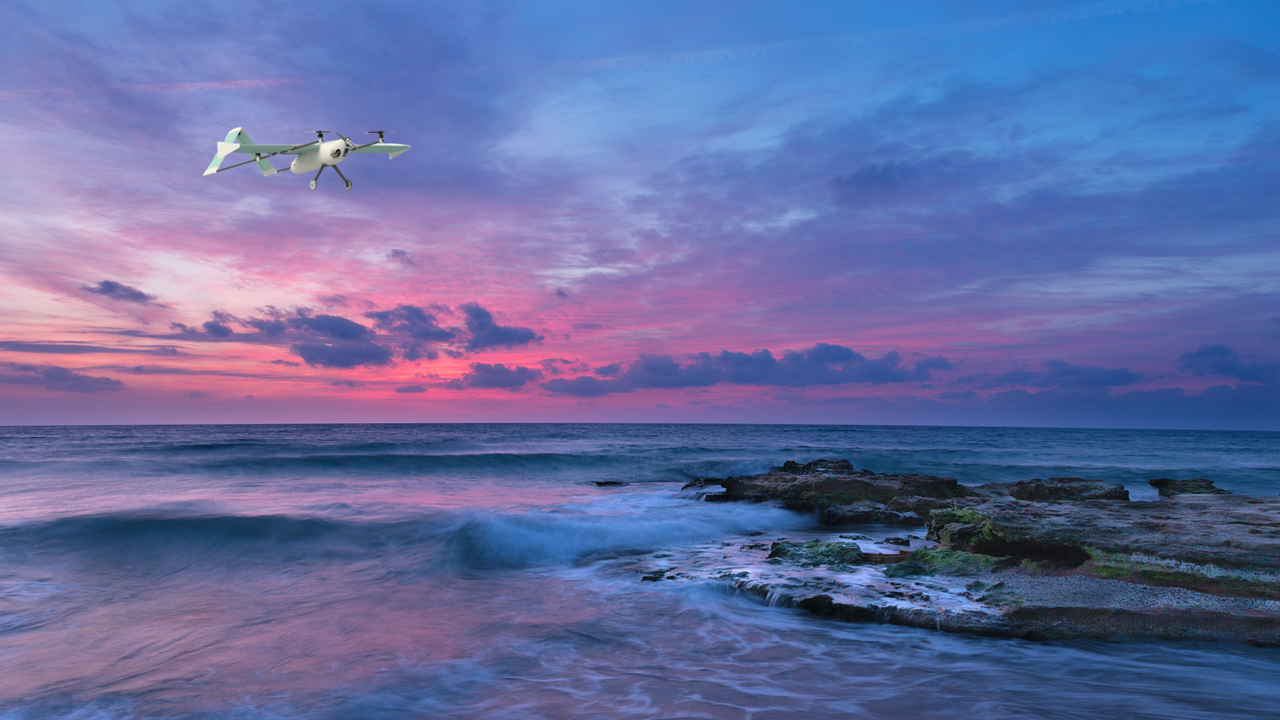military drone: (202, 126, 410, 191)
